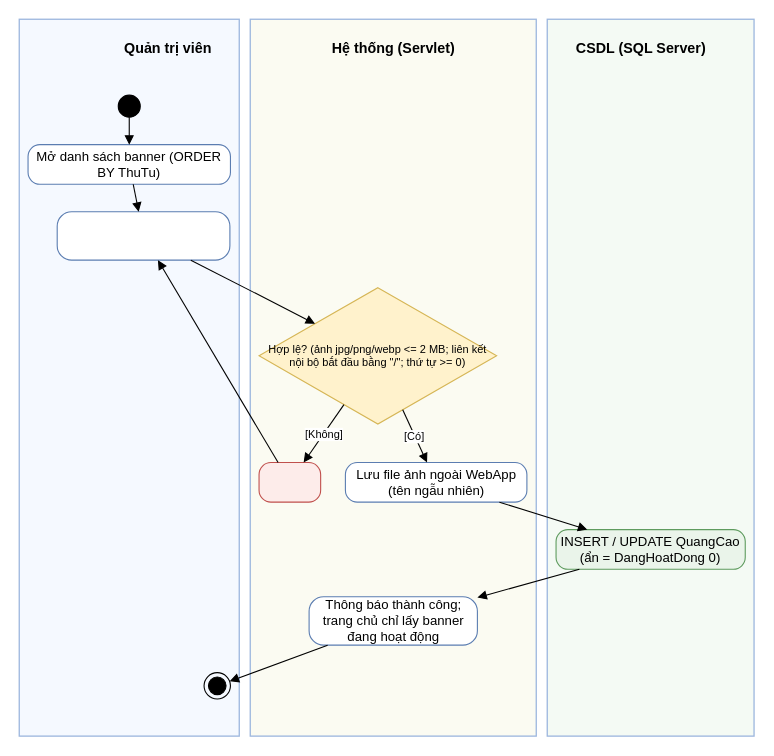
The diagram is 774 pixels wide and 756 high, and some of its shapes have lost their labels. Here are the shapes that lost their labels. From the top down, the box of each, then its label:
(56, 211, 230, 260): Thêm / sửa: tiêu đề, ảnh, liên kết, thứ tự, đang hoạt động
(258, 461, 321, 502): Báo lỗi
